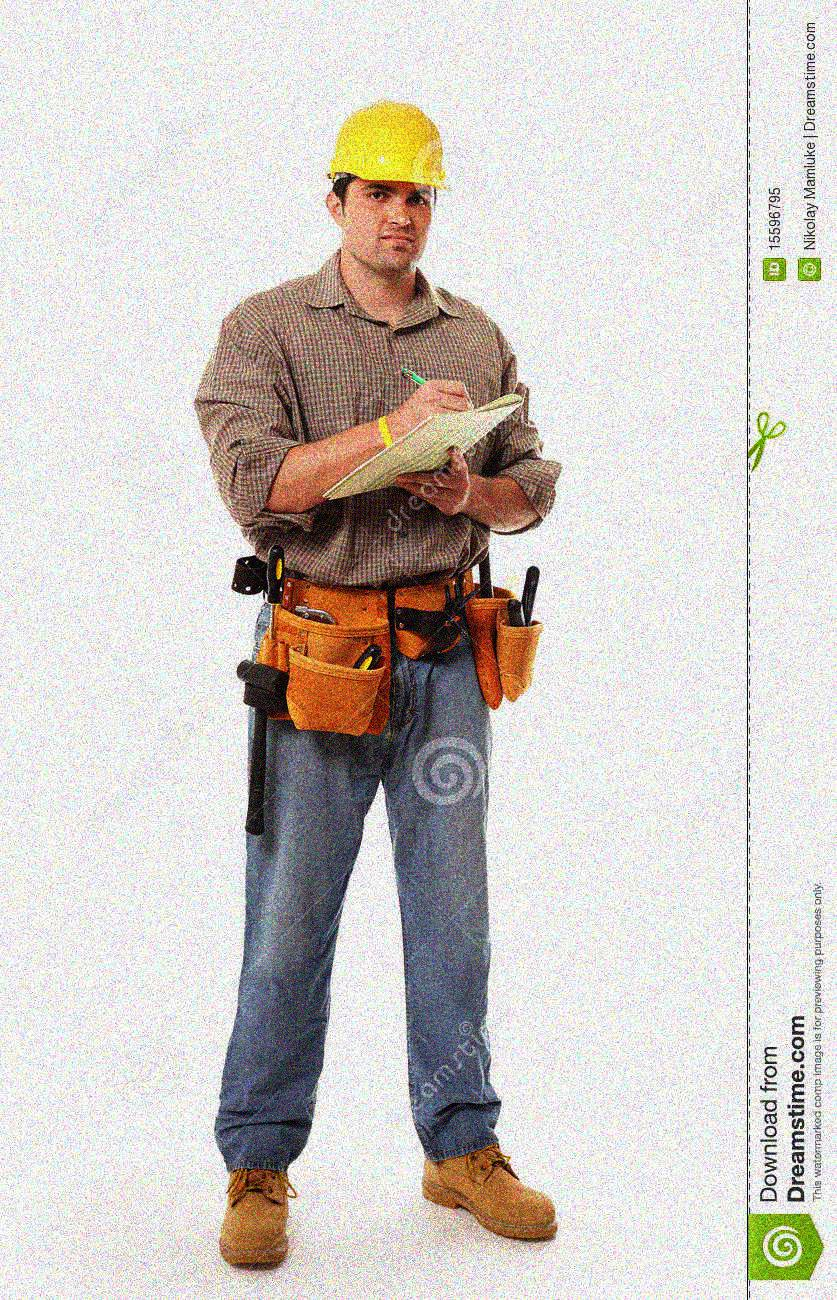helmet: (322, 95, 453, 270)
